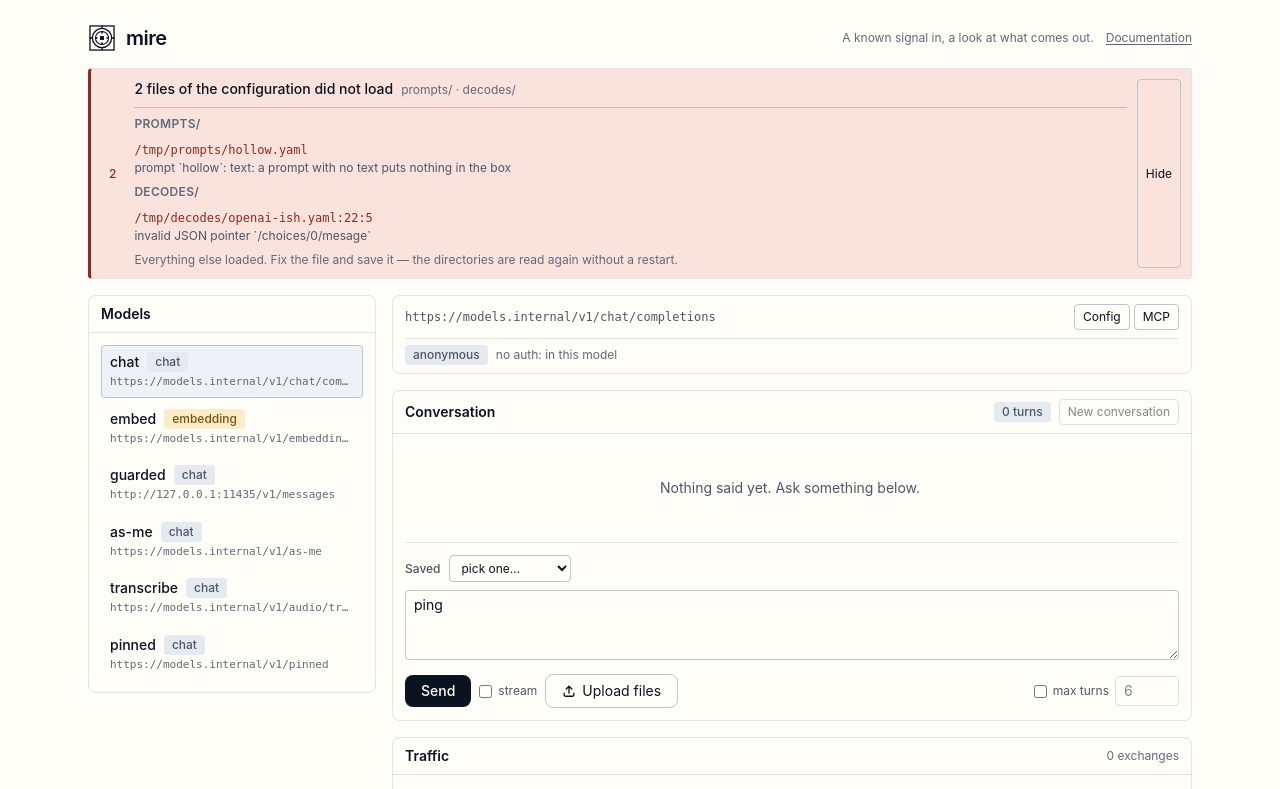
Test: App › lists the MCP identities apart from the model one
Click the button "chat chat https://models.internal/v1/chat/completions": (232, 371) left=110, top=352, right=354, bottom=390
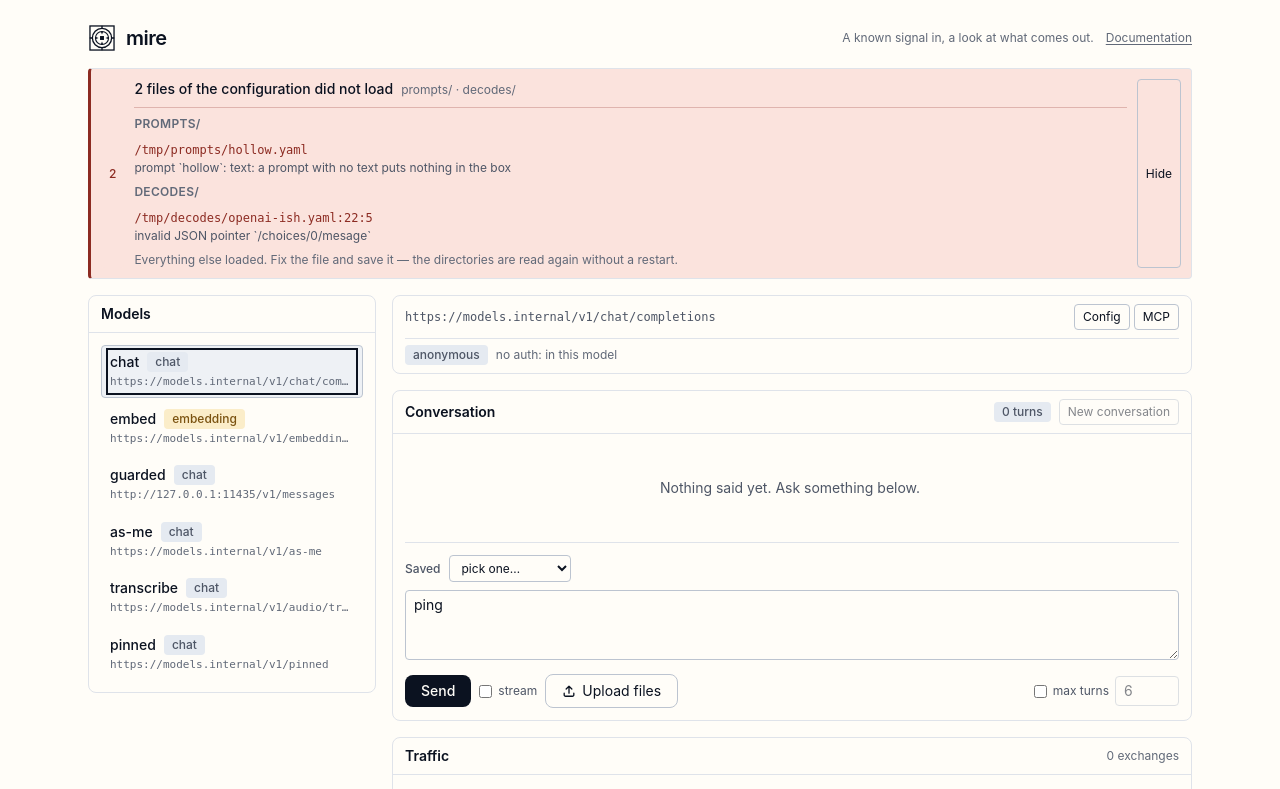
Click the button "MCP": (1156, 317) left=1134, top=304, right=1179, bottom=330
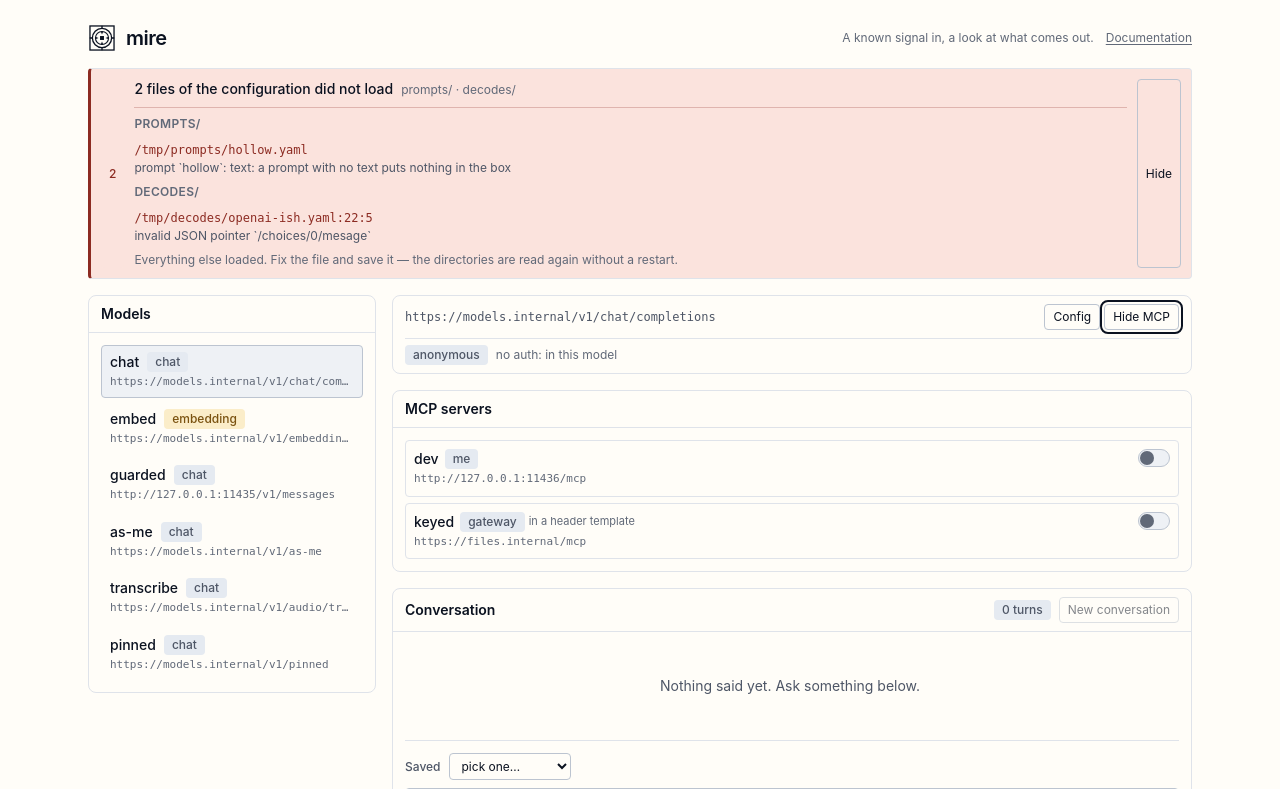
Click the switch named "dev": (1154, 458) left=1138, top=449, right=1170, bottom=467
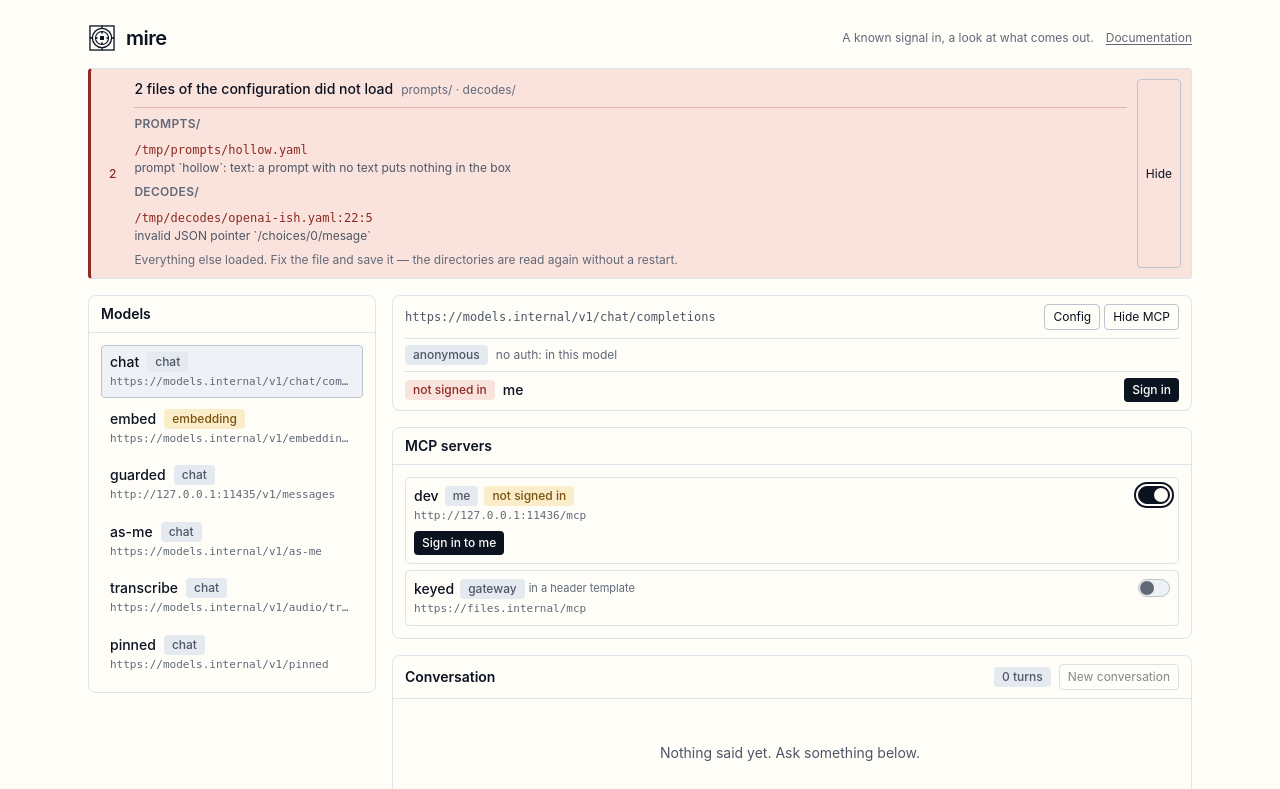
Click the switch named "keyed": (1154, 588) left=1138, top=578, right=1170, bottom=596
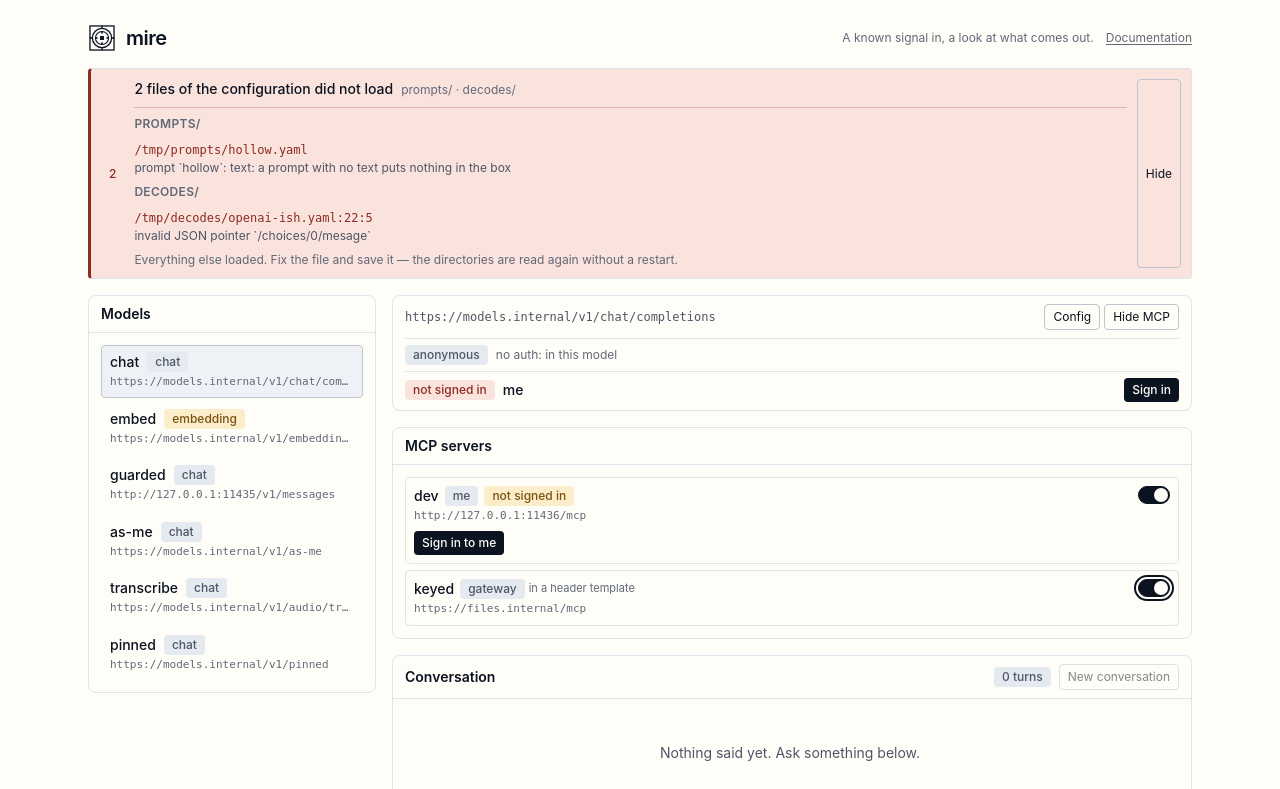
Expected: the heading "MCP servers" is shown, left=405, top=436, right=492, bottom=456
Click the button "guarded chat http://127.0.0.1:11435/v1/messages": (232, 484) left=110, top=465, right=354, bottom=504
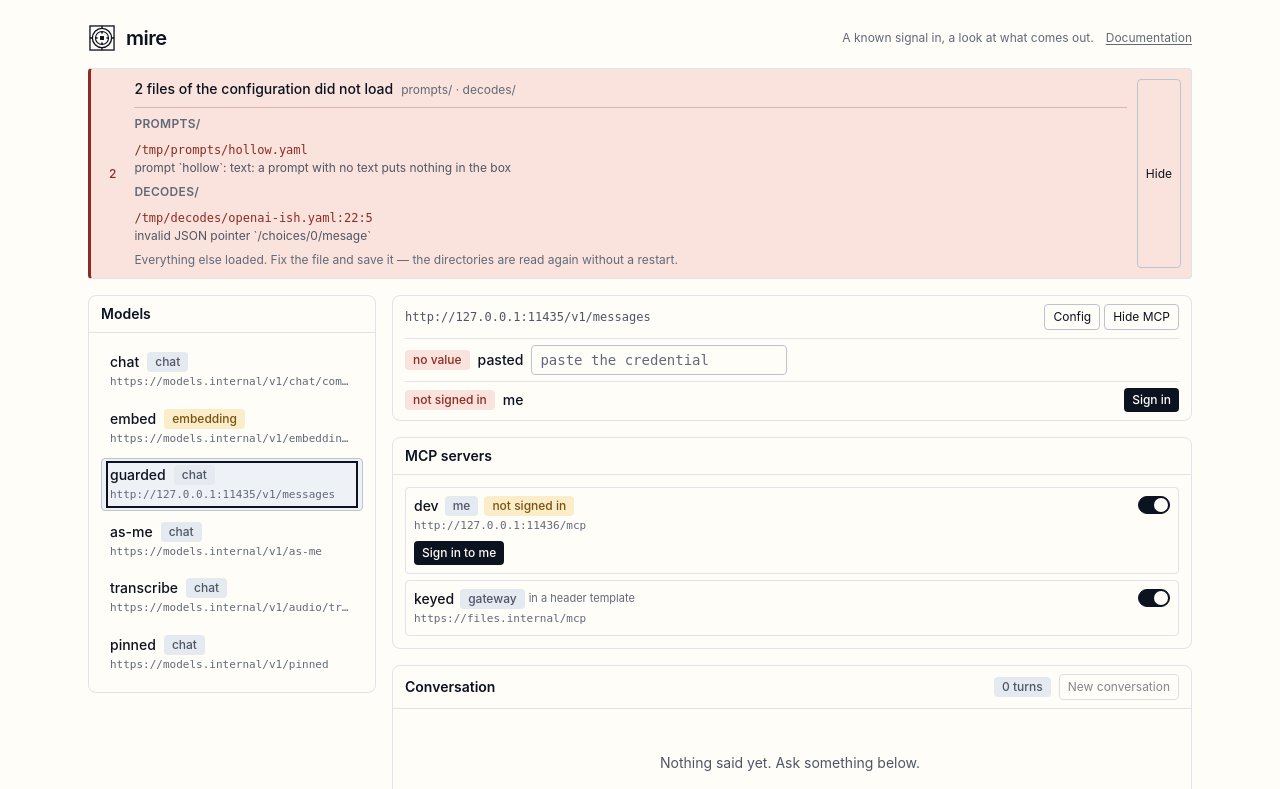
Expected: the heading "MCP servers" is shown, left=405, top=446, right=492, bottom=466
Expected: the text "me" next to "dev" is shown, left=453, top=498, right=470, bottom=513
Expected: the text "pasted" is shown, left=478, top=350, right=523, bottom=370
